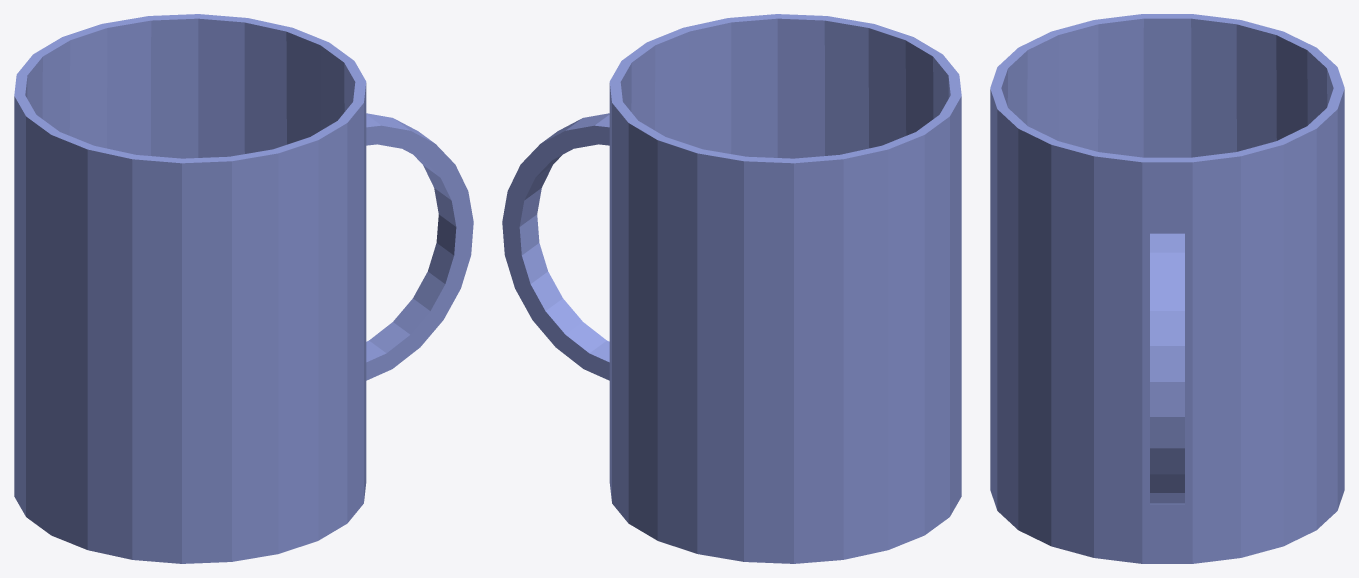
File: mug.glb
3 views of the same model, side by side, from view 1: azimuth 30°, elevation 25°; view 2: azimuth 150°, elevation 25°; view 3: azimuth 270°, elevation 25° (orthographic).
Parts seen in each view (by area): view 1: Mug; view 2: Mug; view 3: Mug.
Part boxes in pixels (box(x1,y1,x2,y2)): Mug: box(14, 14, 473, 563); Mug: box(502, 14, 961, 563); Mug: box(990, 14, 1344, 563).
Bounding box in the file's own units: 0.2227 × 0.2 × 0.16.
